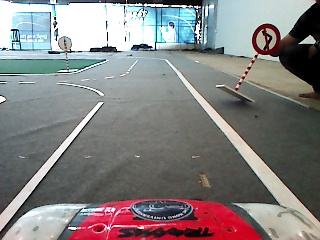ban_left: (252, 24, 282, 55)
